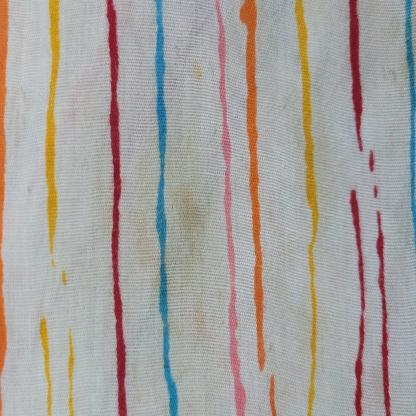spot: (141, 147, 222, 344), (174, 197, 217, 300), (185, 57, 213, 89)
